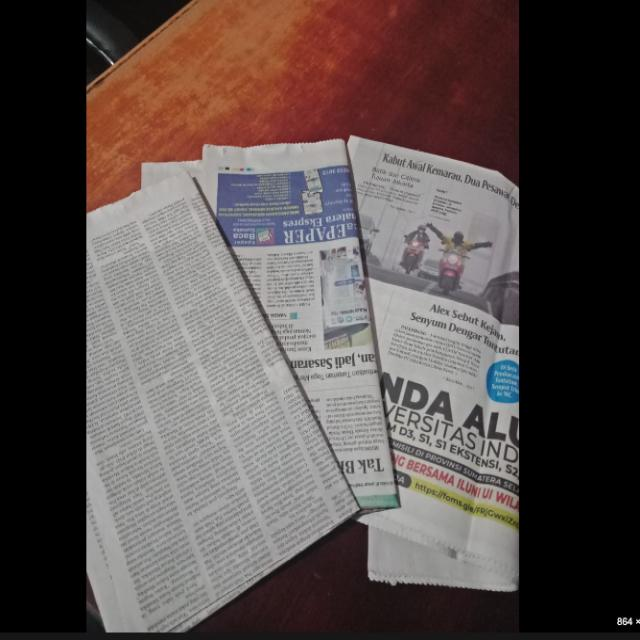Koran: (92, 132, 521, 609)
